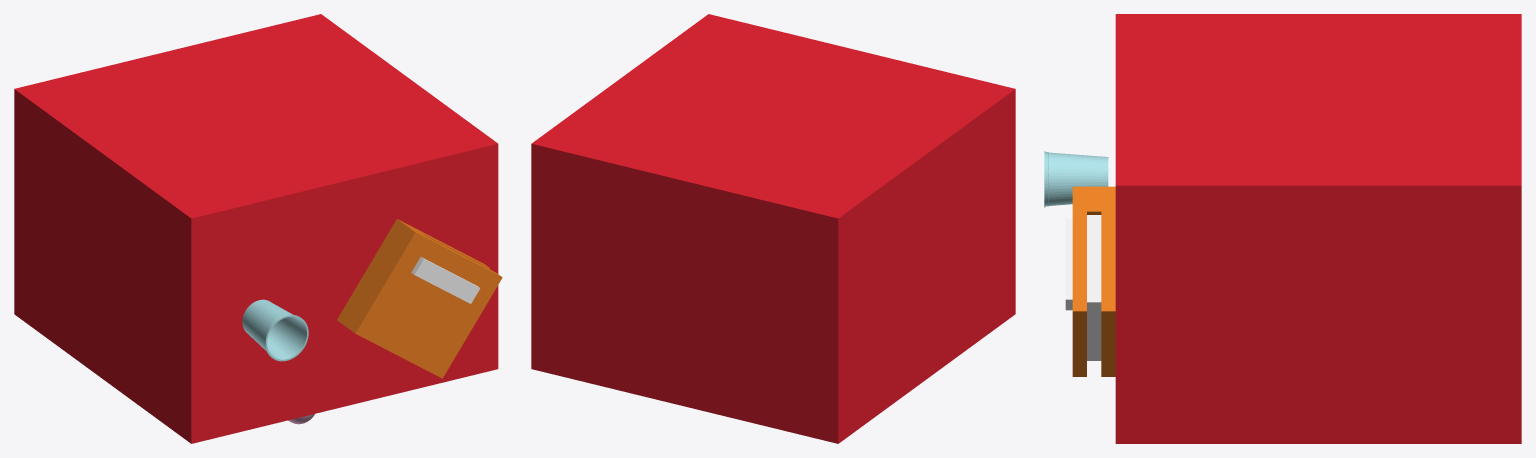
The model's file is tinker.obj.
3 renders of one model, left to right at view 1: azimuth 30°, elevation 25°; view 2: azimuth 150°, elevation 25°; view 3: azimuth 270°, elevation 25°, orthographic. The views are drawn at different scales.
Visible parts, largest first — view 1: group_0_15277357, group_0_16089887, group_0_11593967, group_0_16448250; view 2: group_0_15277357; view 3: group_0_15277357, group_0_16089887, group_0_16448250, group_0_11593967.
Part boxes in pixels (x1=…): group_0_15277357: x1=14, y1=14, x2=498, y2=443; group_0_16089887: x1=337, y1=219, x2=502, y2=378; group_0_11593967: x1=242, y1=299, x2=308, y2=361; group_0_16448250: x1=411, y1=257, x2=480, y2=303; group_0_15277357: x1=531, y1=14, x2=1015, y2=443; group_0_15277357: x1=1115, y1=14, x2=1521, y2=443; group_0_16089887: x1=1072, y1=186, x2=1115, y2=376; group_0_16448250: x1=1065, y1=215, x2=1101, y2=360; group_0_11593967: x1=1044, y1=151, x2=1108, y2=207.
Bounding box in the file's own units: 57 × 47 × 67.
